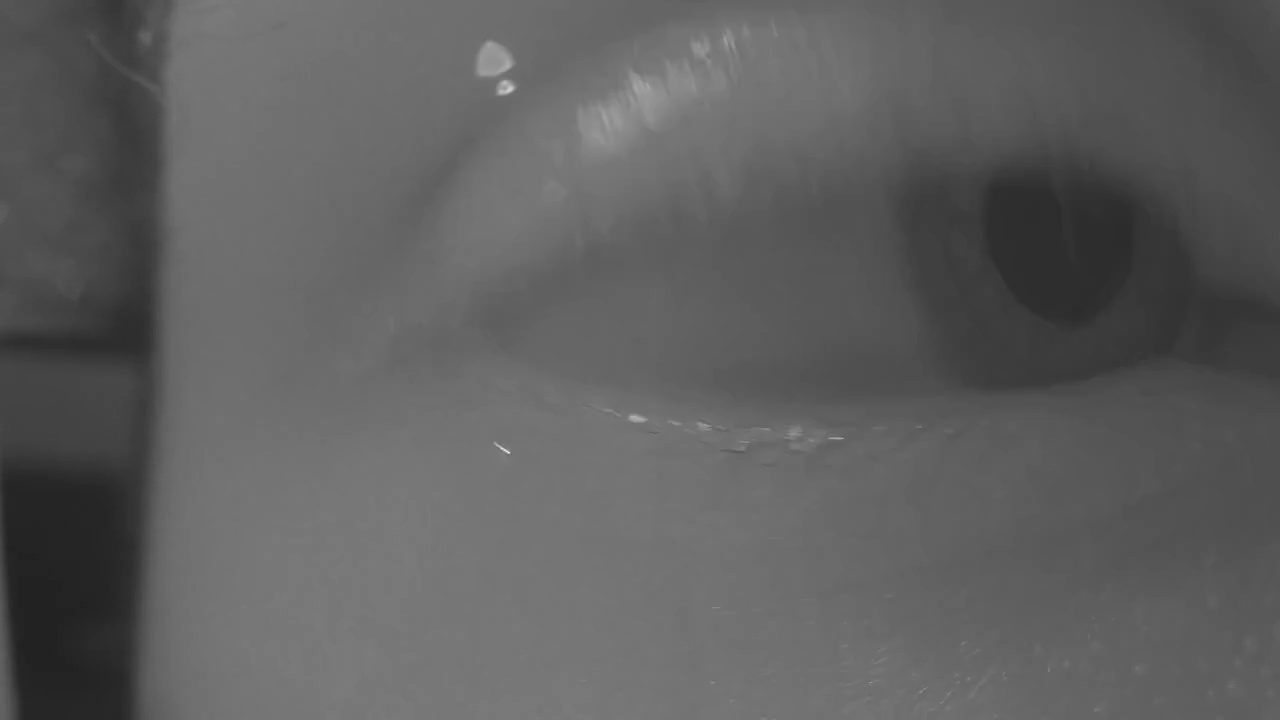pupil: (982, 167, 1135, 321)
